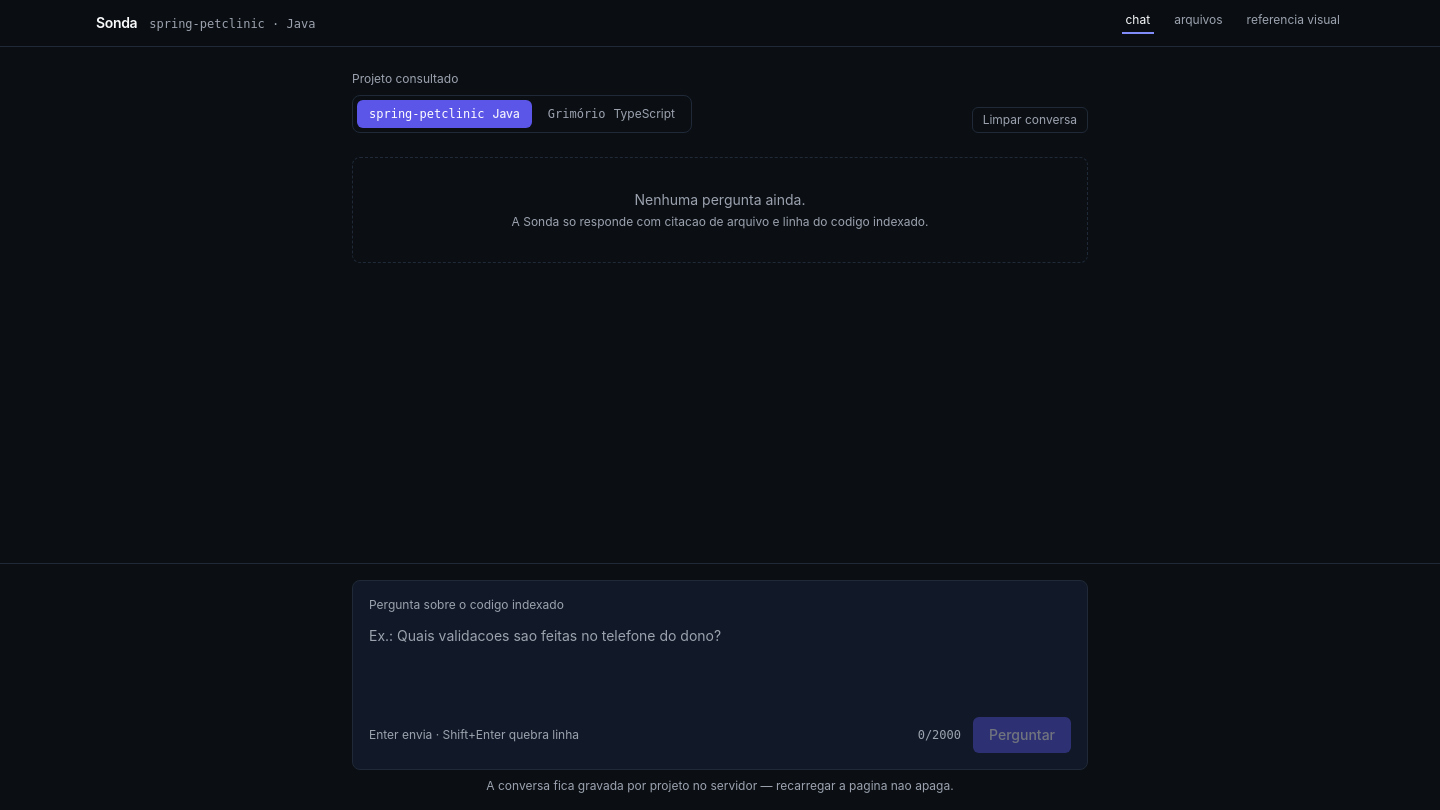
it: historico por projeto › guarda uma conversa por projeto e devolve ao voltar
Type "pergunta do petclinic" into the text box labelled "Pergunta sobre o codigo indexado" at (720, 665), box [369, 625, 1071, 705]
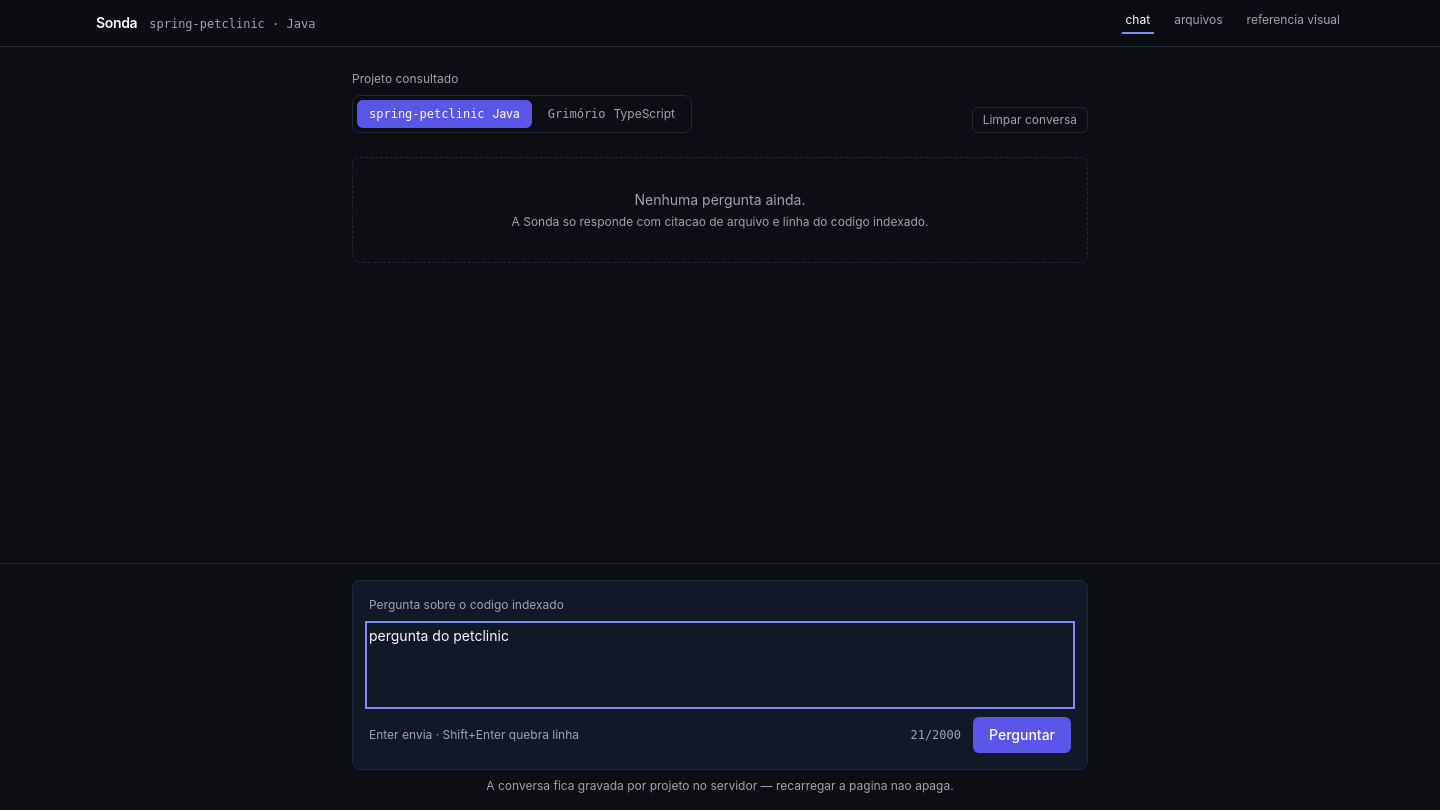
Press Enter
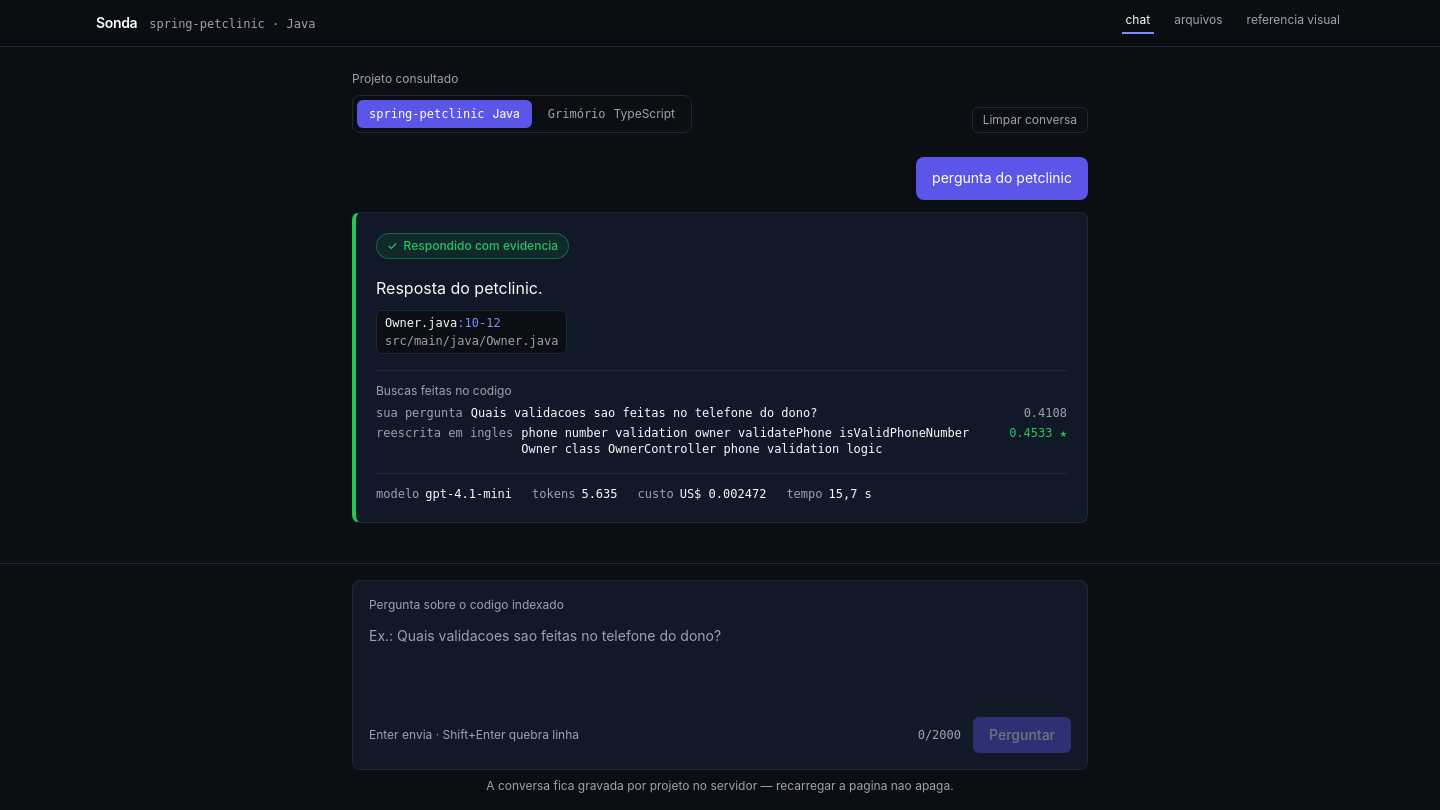
expect the button "Perguntar" is shown: met, box [973, 717, 1071, 753]
expect the text "Resposta do petclinic." is shown: met, box [376, 278, 542, 298]
Click the tab "Grimório TypeScript" at (611, 114), box [536, 100, 687, 128]
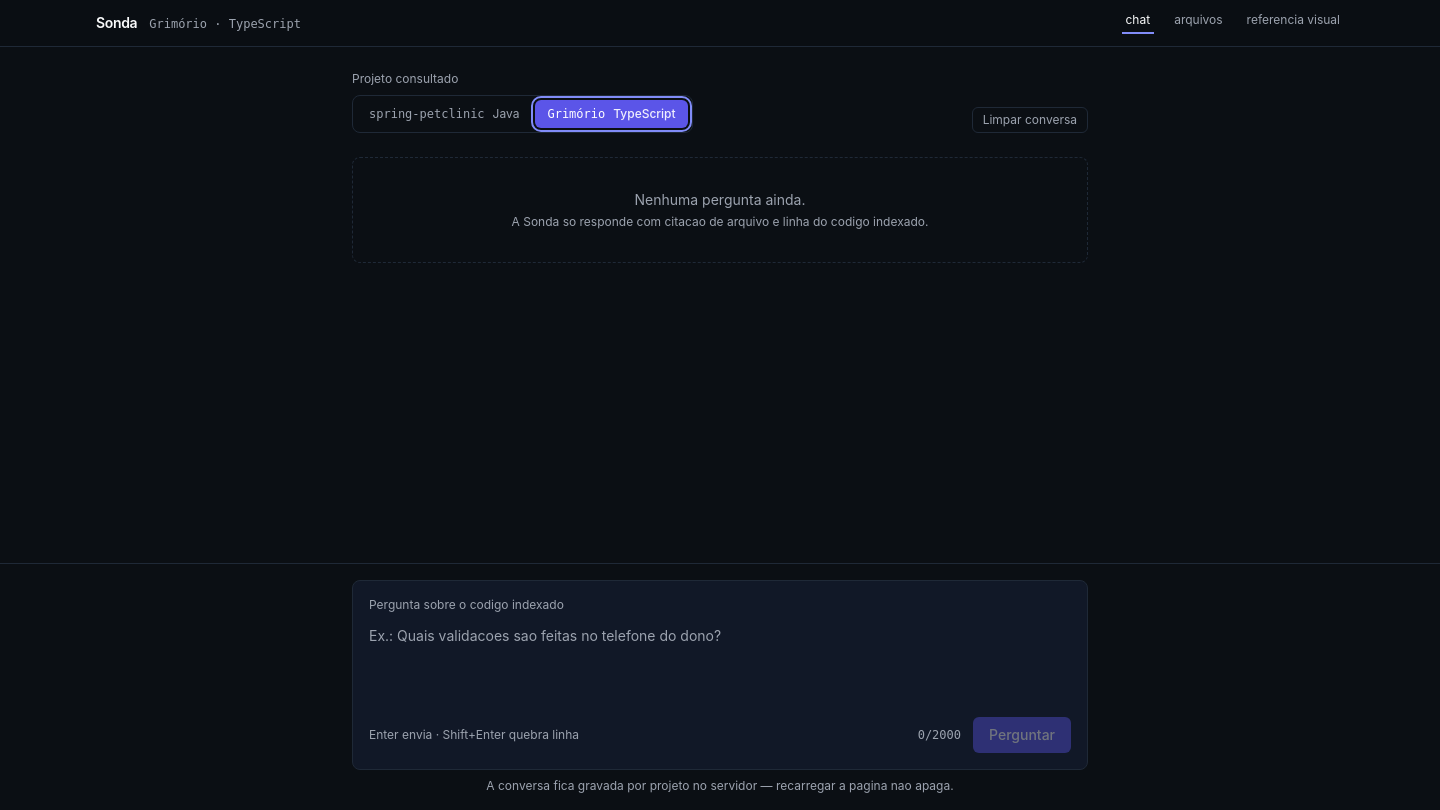
expect the text "Resposta do petclinic." is gone: met
expect the text "Nenhuma pergunta ainda." is shown: met, box [634, 191, 806, 208]
Type "pergunta do grimorio" into the text box labelled "Pergunta sobre o codigo indexado" at (720, 665), box [369, 625, 1071, 705]
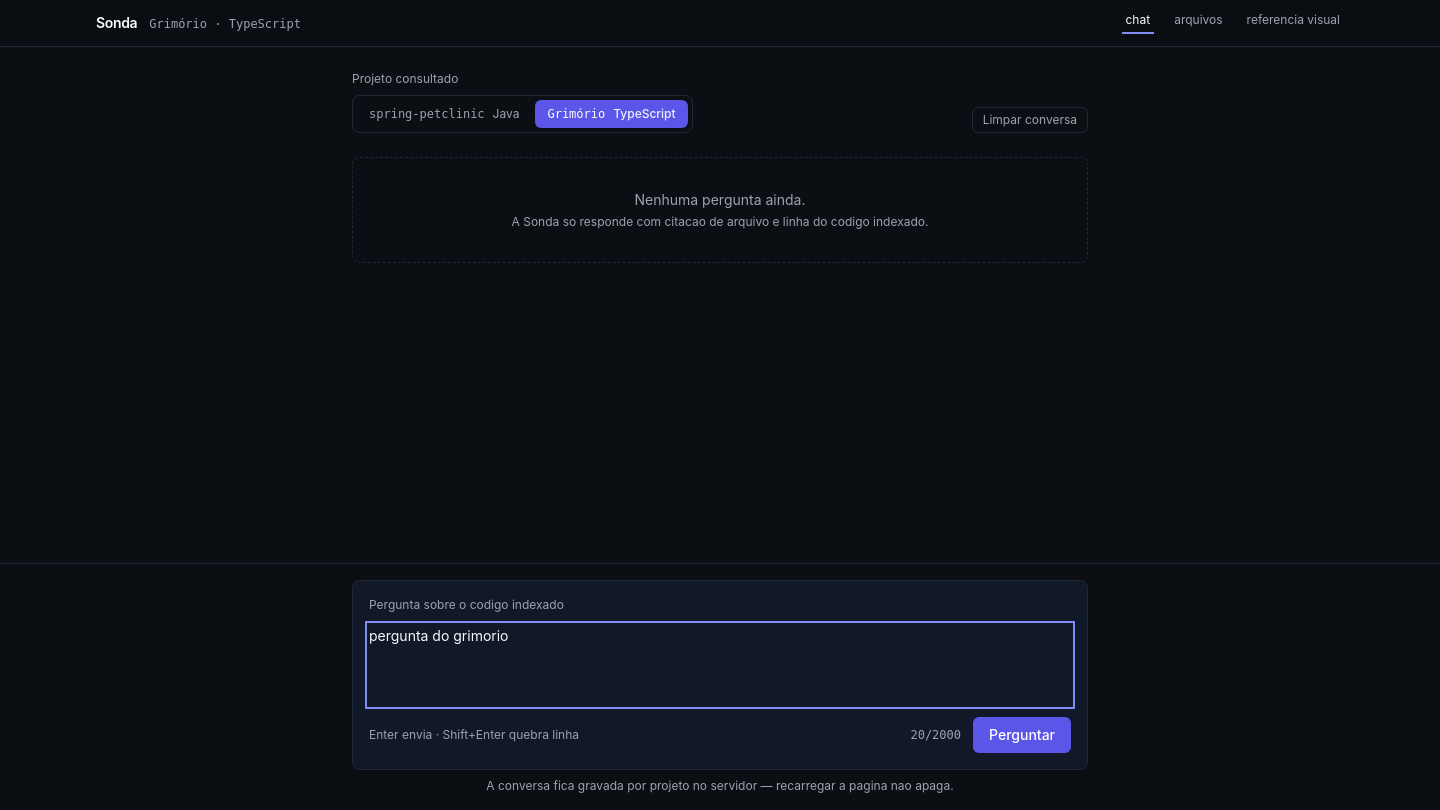
Press Enter
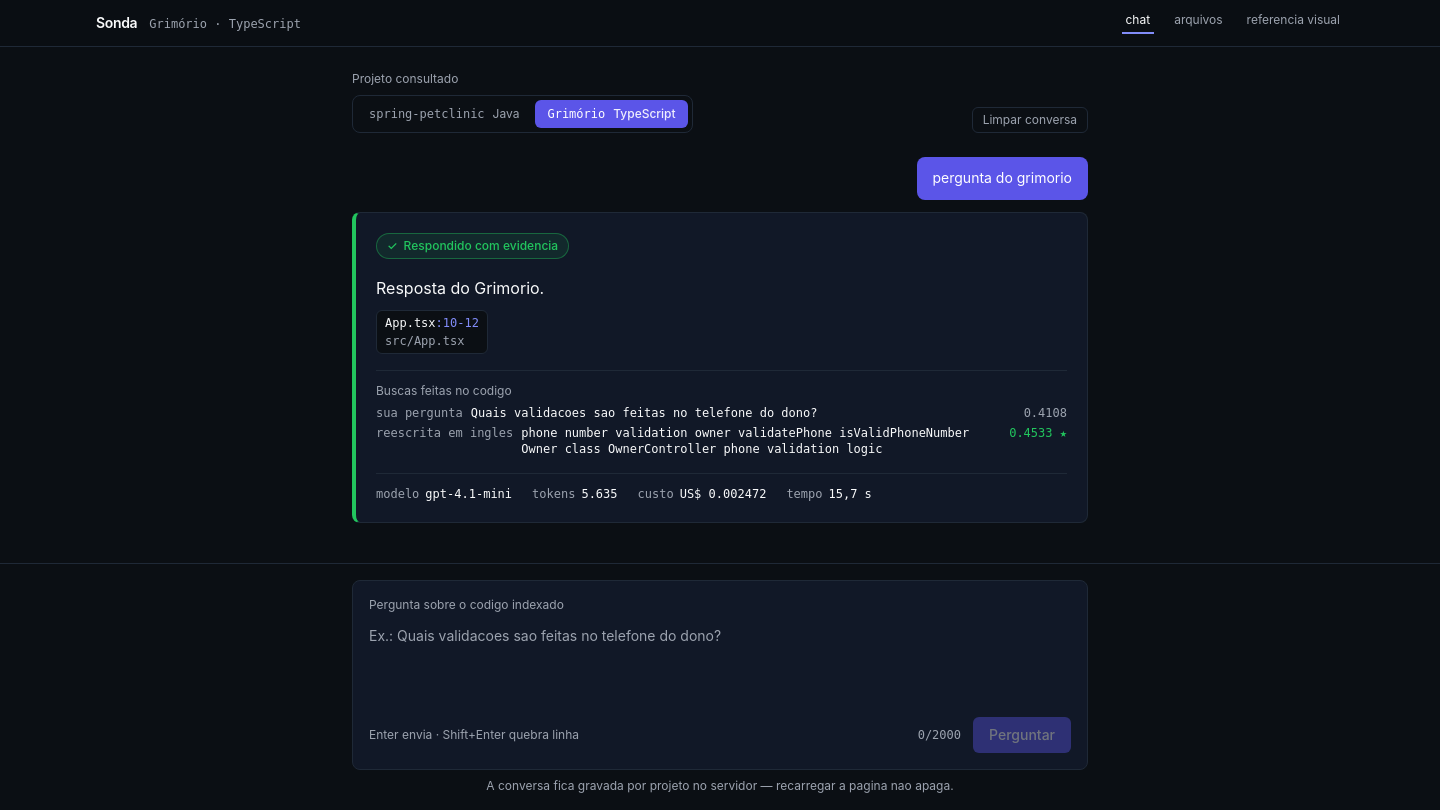
expect the button "Perguntar" is shown: met, box [973, 717, 1071, 753]
expect the text "Resposta do Grimorio." is shown: met, box [376, 278, 544, 298]
Click the tab "spring-petclinic Java" at (444, 114), box [357, 100, 531, 128]
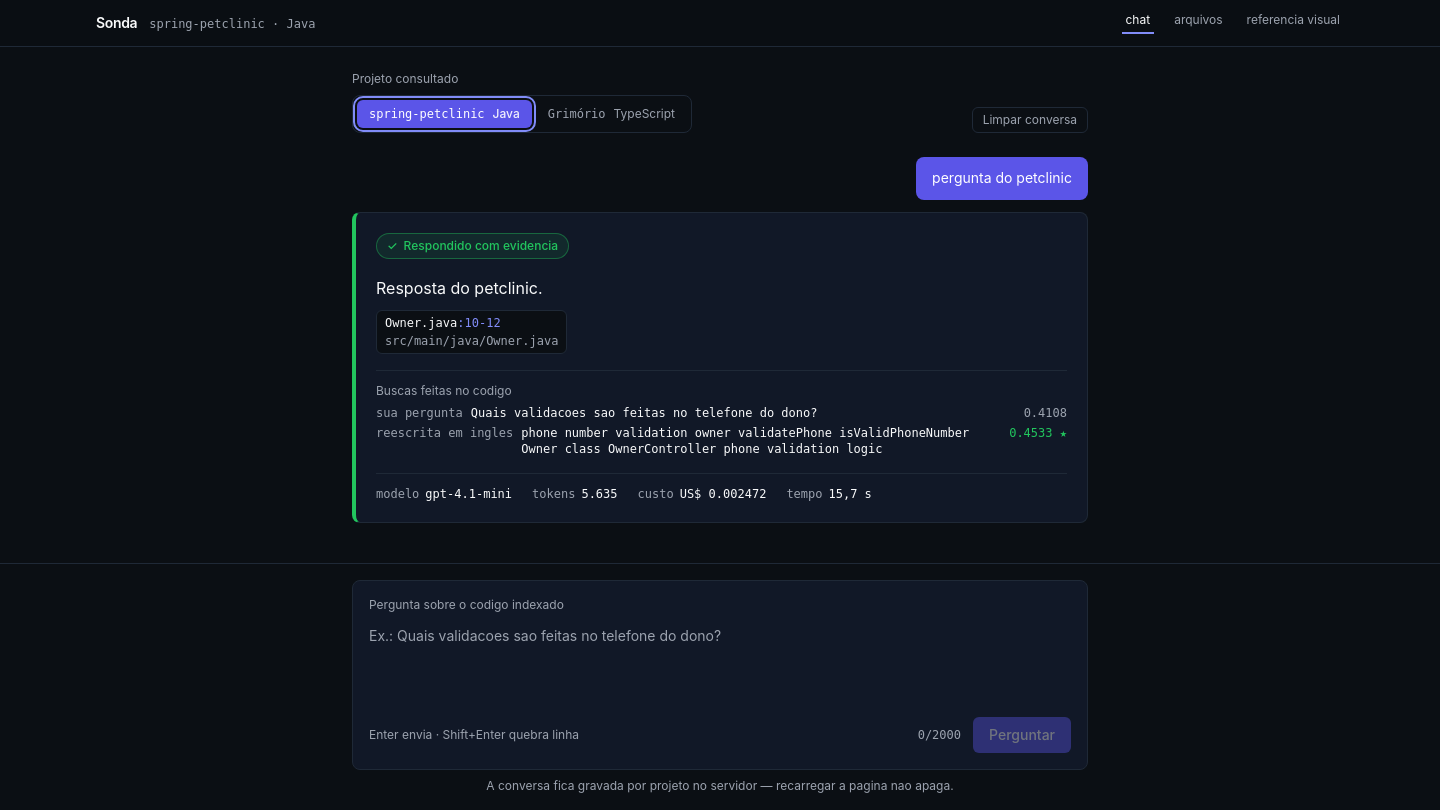
expect the text "Resposta do petclinic." is shown: met, box [376, 278, 542, 298]
expect the text "Resposta do Grimorio." is gone: met
